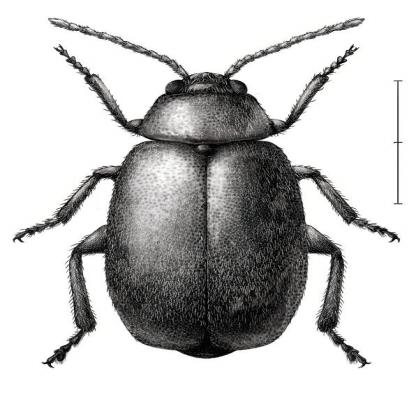beetle: (32, 15, 395, 383)
